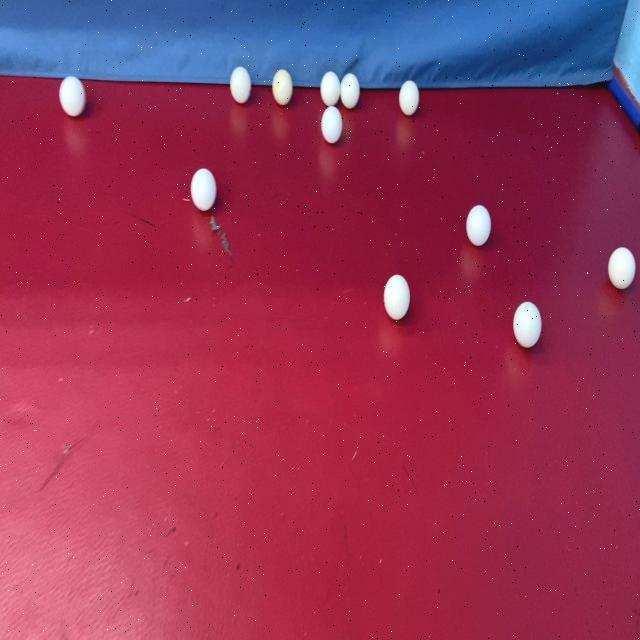ping-pong-ball: (382, 271, 412, 323), (512, 299, 542, 349), (58, 72, 88, 120), (606, 245, 636, 293), (189, 165, 219, 212), (464, 203, 492, 250), (229, 62, 253, 106), (320, 101, 344, 145), (338, 72, 362, 110), (272, 66, 293, 108), (398, 78, 420, 118), (320, 69, 342, 108)
